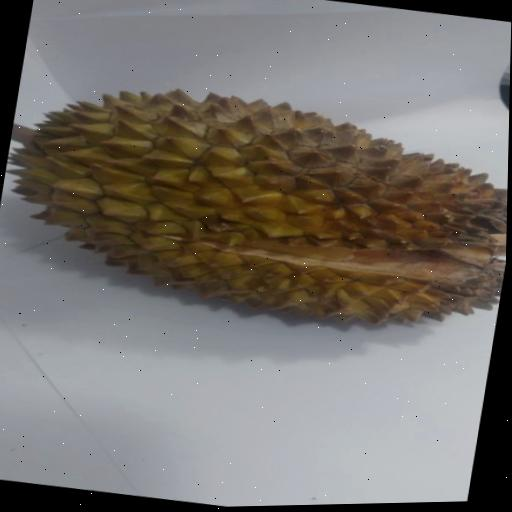rot: (0, 30, 511, 369)
